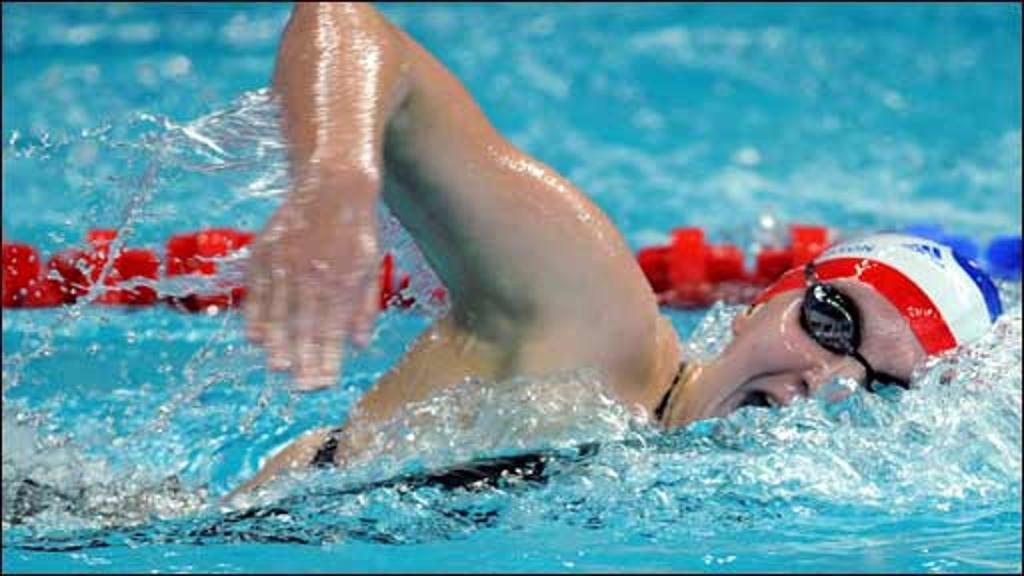face: (687, 287, 961, 477)
